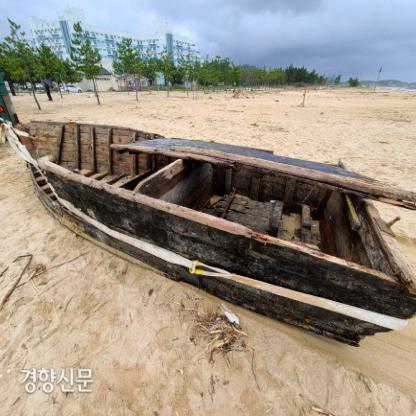fish-b: (0, 116, 415, 353)
